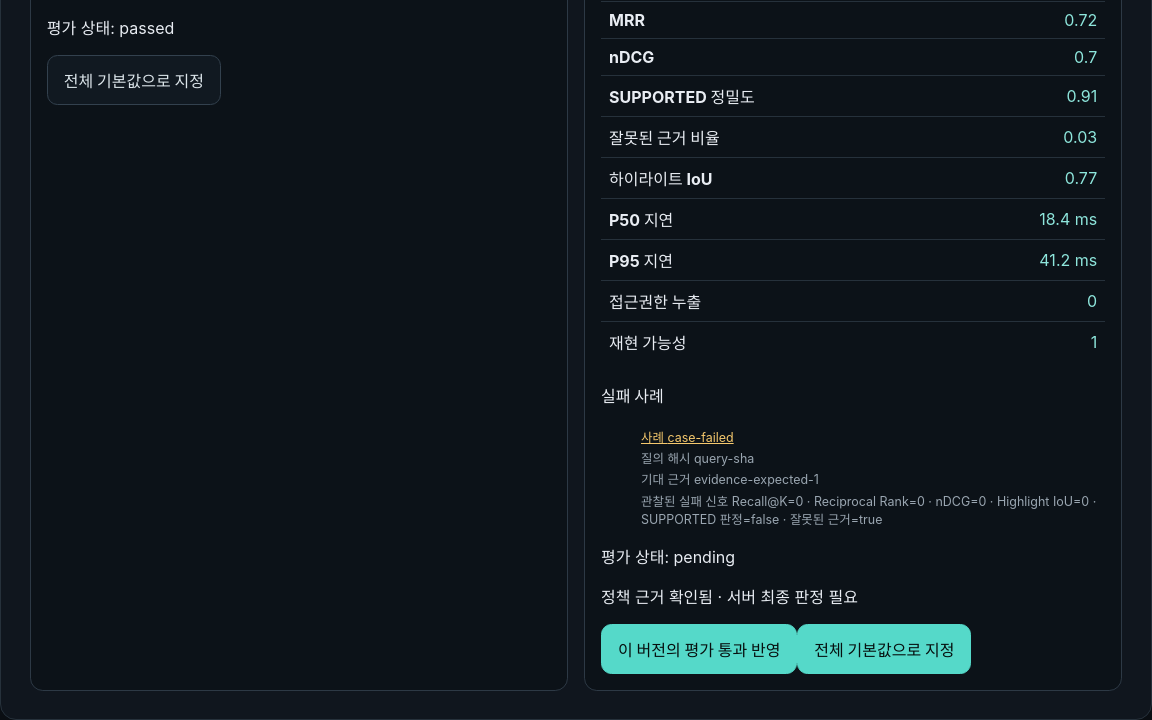
it: ComparisonPanel › accepts the exact displayed version without global promotion (refresh fails: true)
(page scrolled)
What coordinates should you click on to do the following:
click the button "이 버전의 평가 통과 반영"
I would click on:
 (699, 649)
Its box is [601, 624, 797, 674].
(page scrolled)
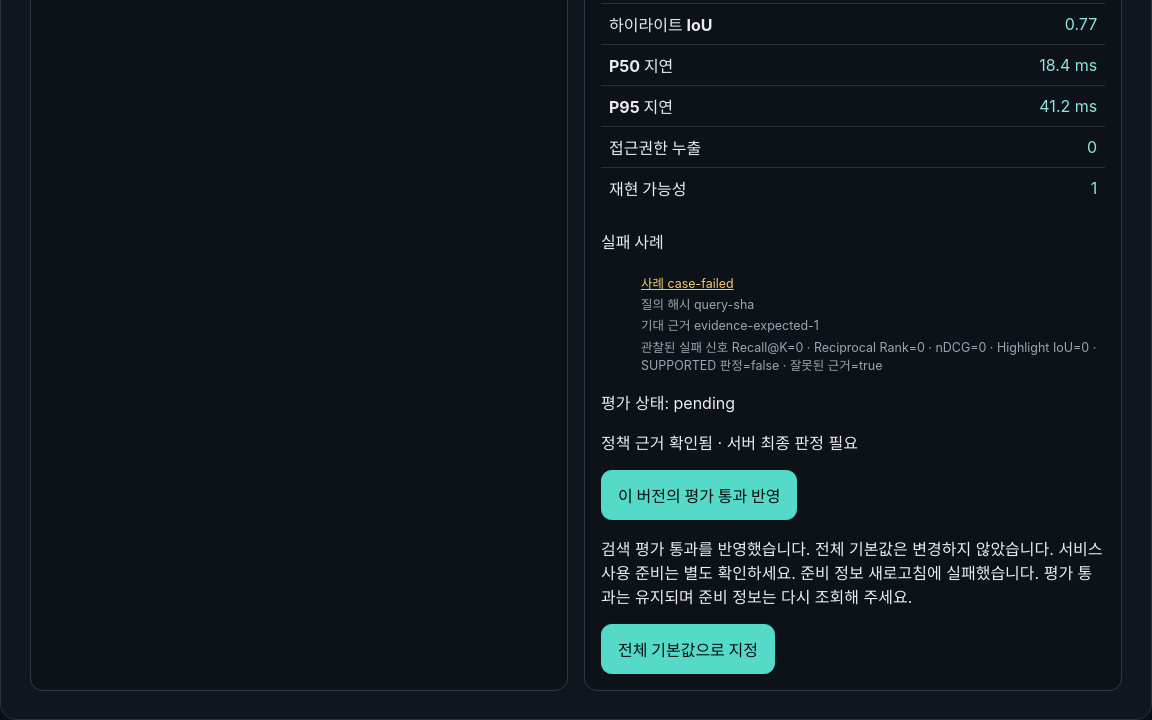
Expected: the text "준비 정보 새로고침에 실패했습니다" is shown, [601, 539, 1102, 607]
